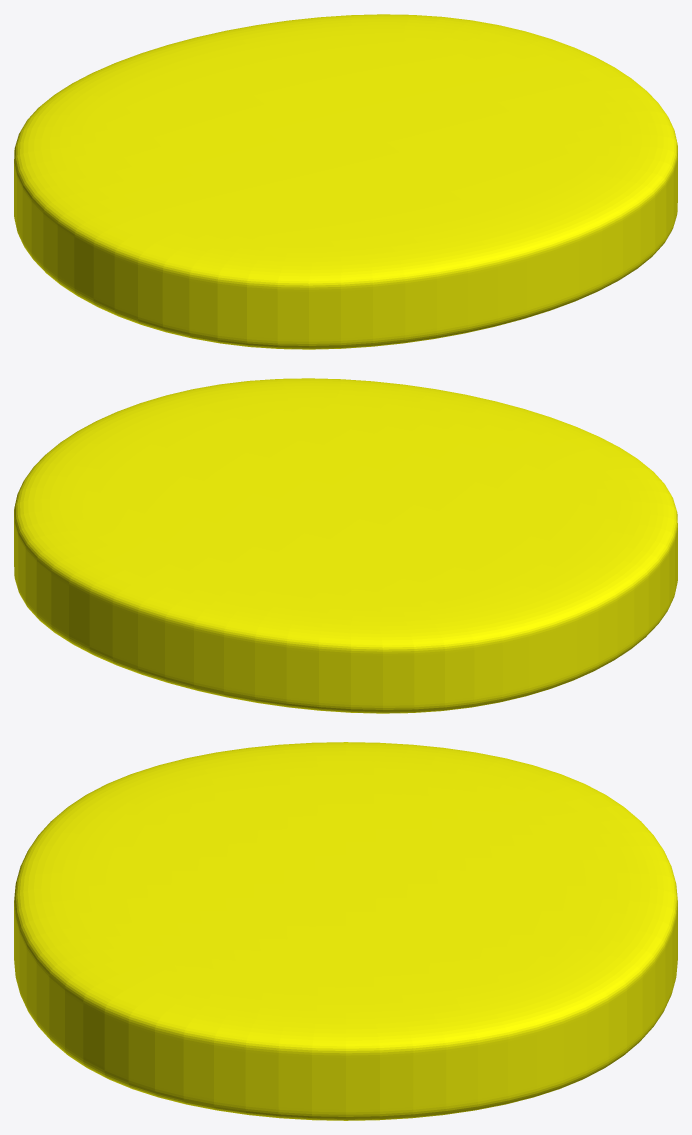
Rendered from chicken.gltf.
The picture shows the model from 3 angles, top to bottom: view 1: azimuth 30°, elevation 25°; view 2: azimuth 150°, elevation 25°; view 3: azimuth 270°, elevation 25°; orthographic projection. The views are drawn at different scales.
Parts seen in each view (by area): view 1: Cube.003; view 2: Cube.003; view 3: Cube.003.
Part boxes in pixels (left/top/right/bottom): Cube.003: left=14, top=14, right=677, bottom=349; Cube.003: left=14, top=378, right=677, bottom=713; Cube.003: left=14, top=742, right=677, bottom=1120.
Size of the model in its own units: 2.12 by 0.3227 by 1.94.
